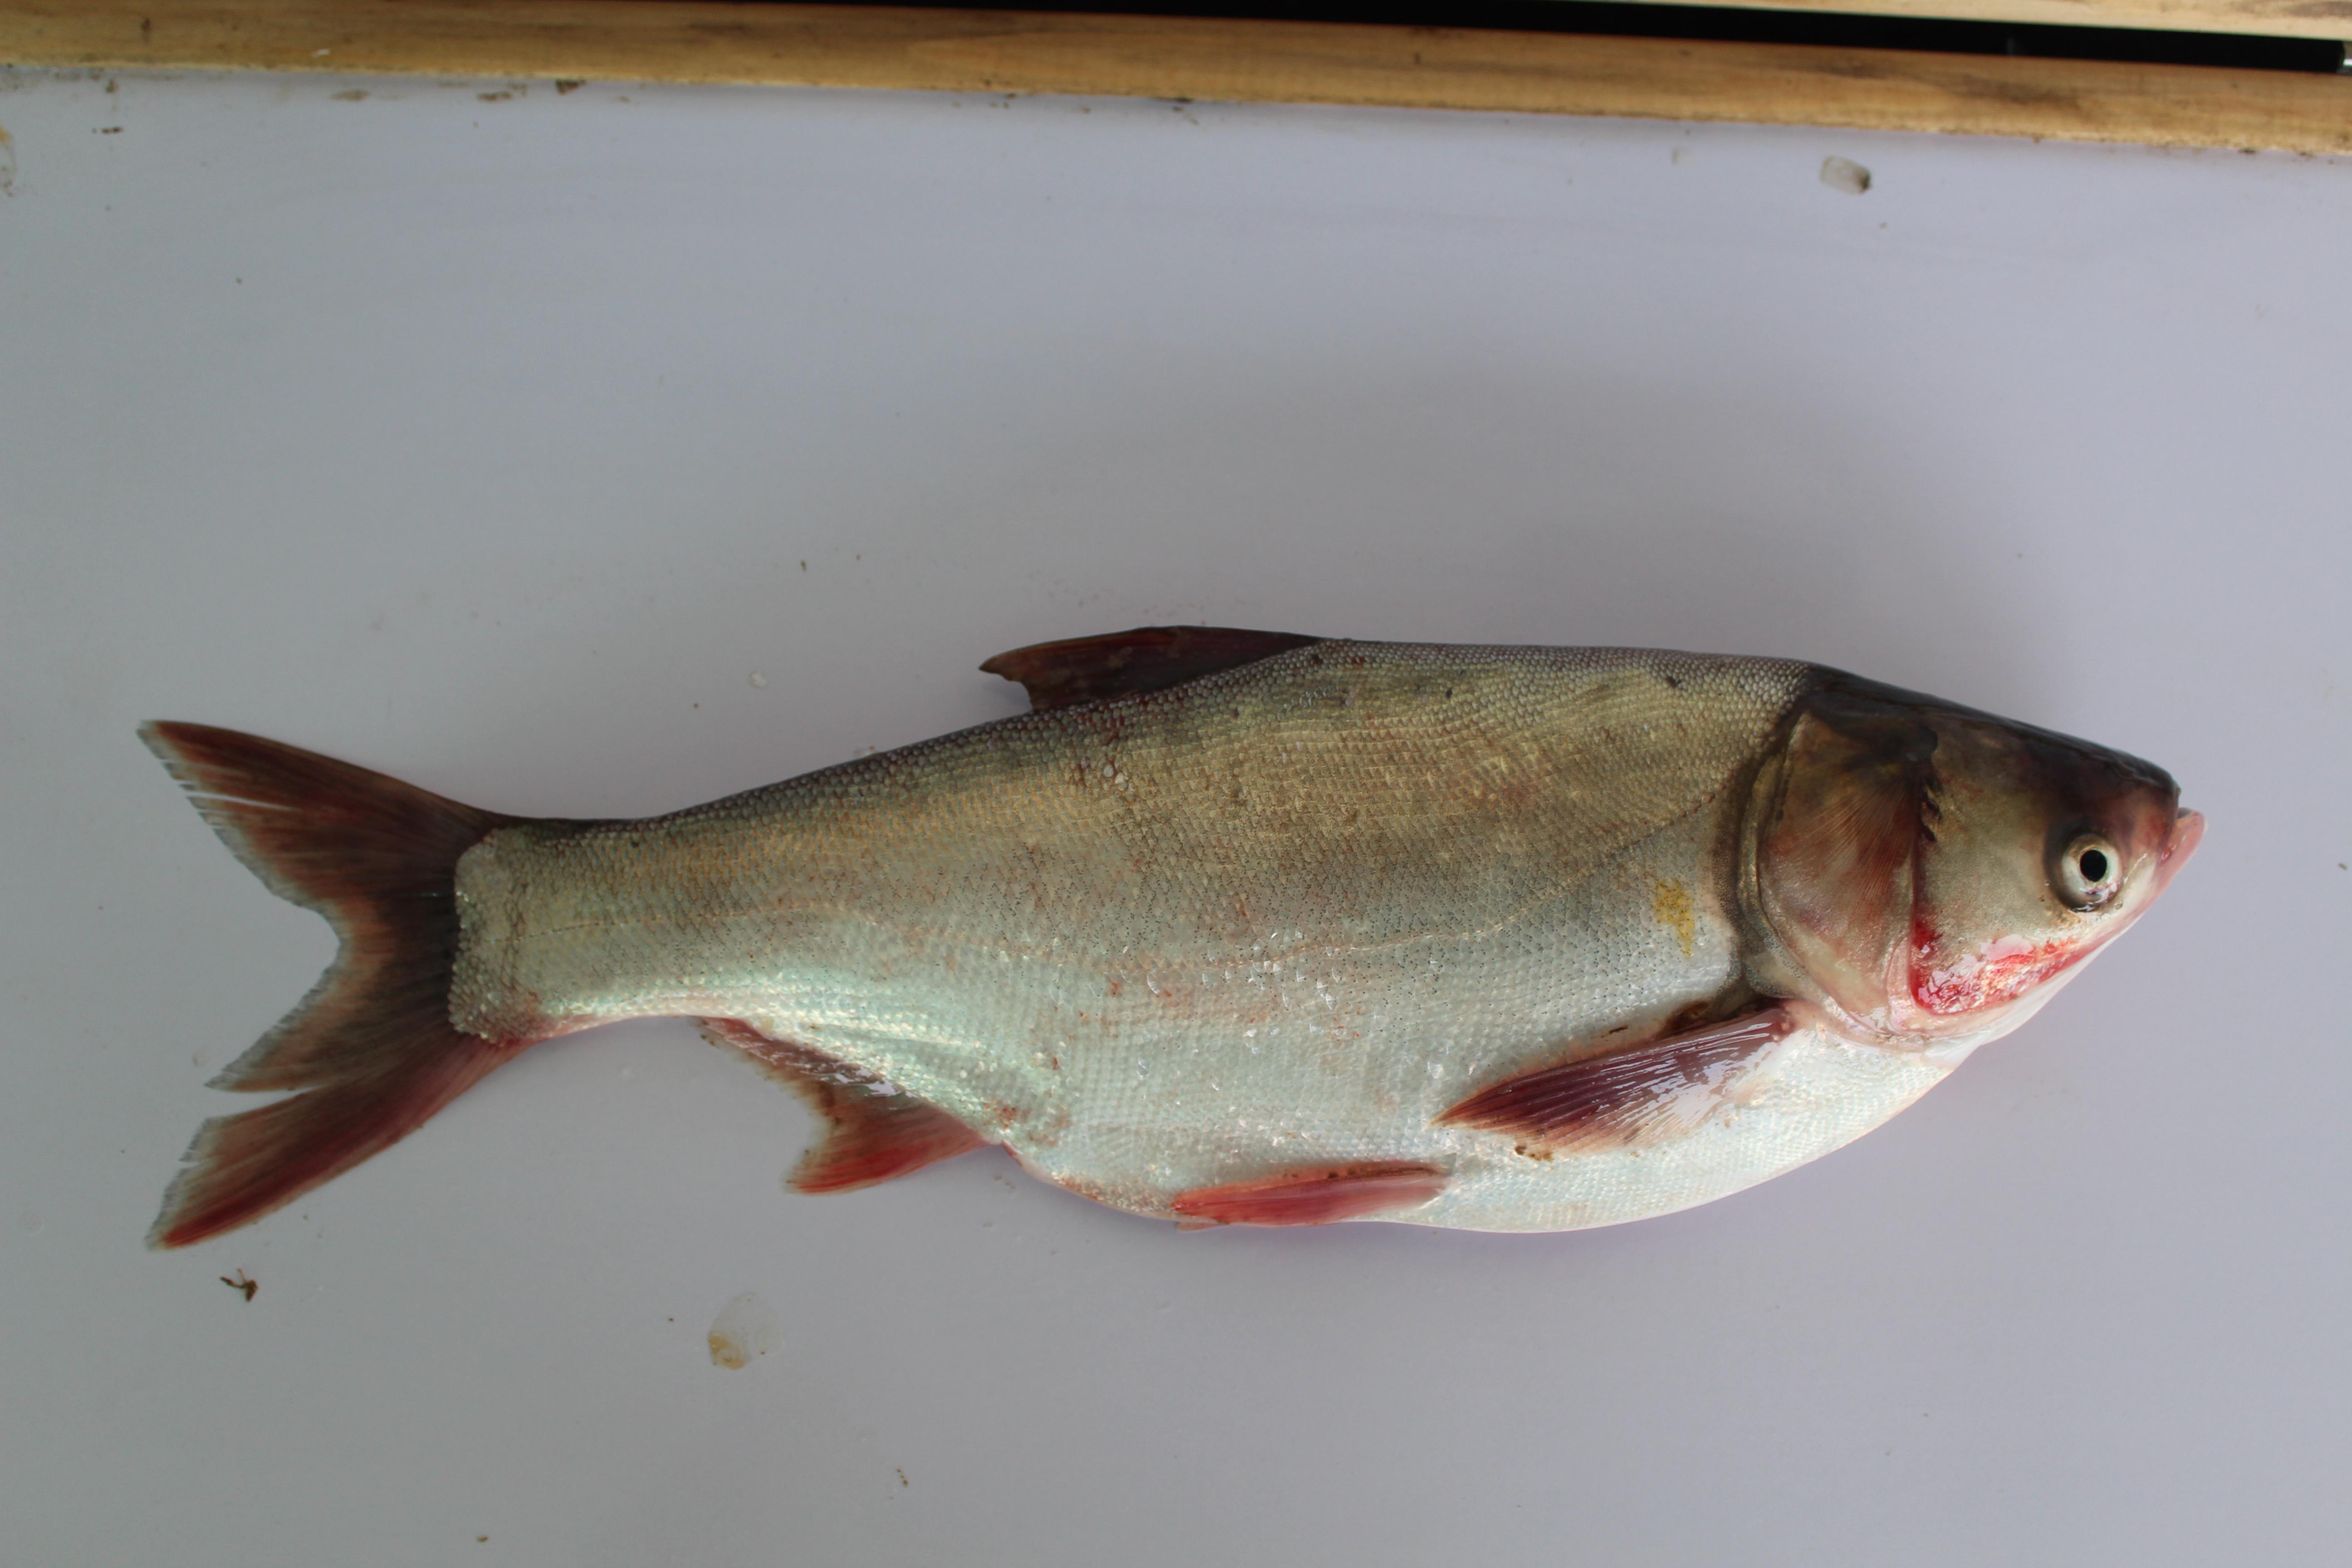Silver Carp: (156, 626, 2233, 1276)
